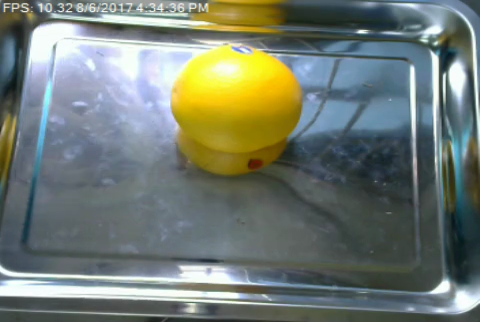Orange: (170, 43, 301, 153)
